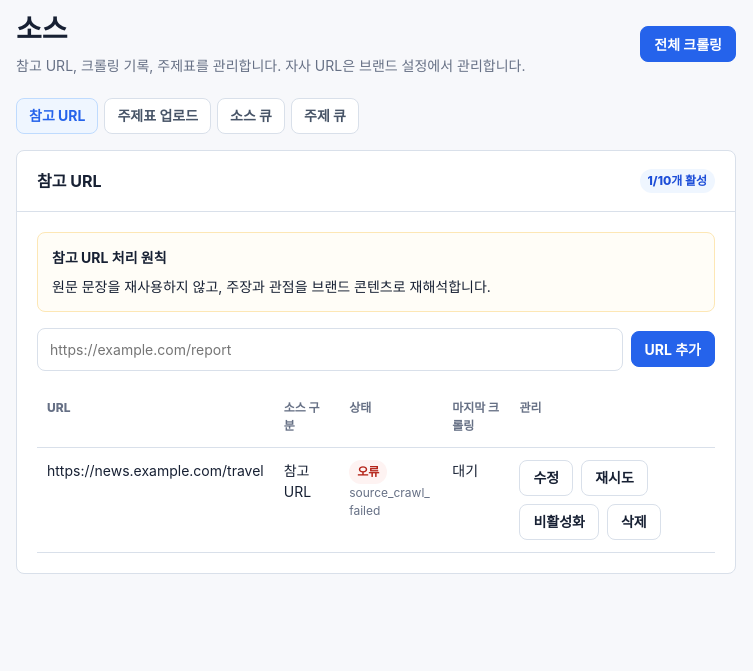
it: SourcesPage › retries a failed source through the API instead of changing only the screen
Step 1. Click the button with aria-label "재시도 https://news.example.com/travel" → (614, 478), box [581,460,648,496]
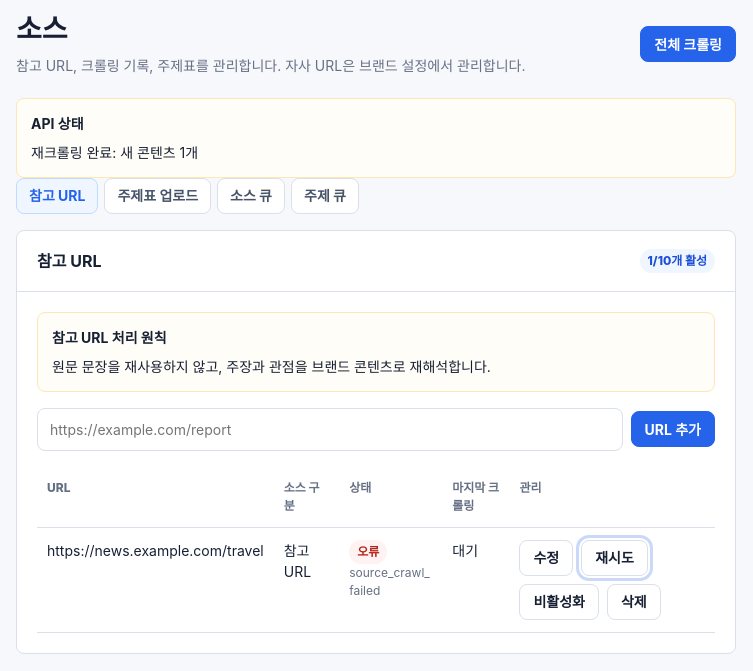
Expected: the text "재크롤링 완료: 새 콘텐츠 1개" is shown, [31,144,198,161]
